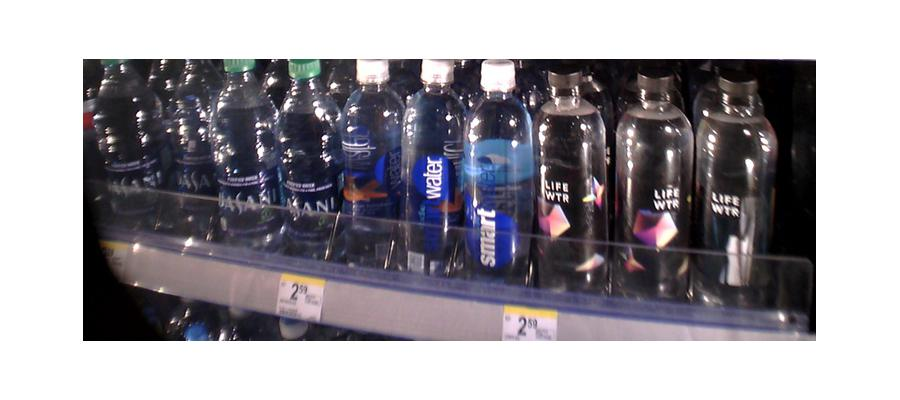bottle: (697, 70, 776, 315), (615, 71, 691, 308), (533, 71, 610, 295), (463, 62, 530, 285), (398, 62, 464, 274), (274, 58, 337, 257), (212, 56, 275, 250), (339, 57, 398, 264), (88, 59, 156, 231), (162, 61, 211, 235)
